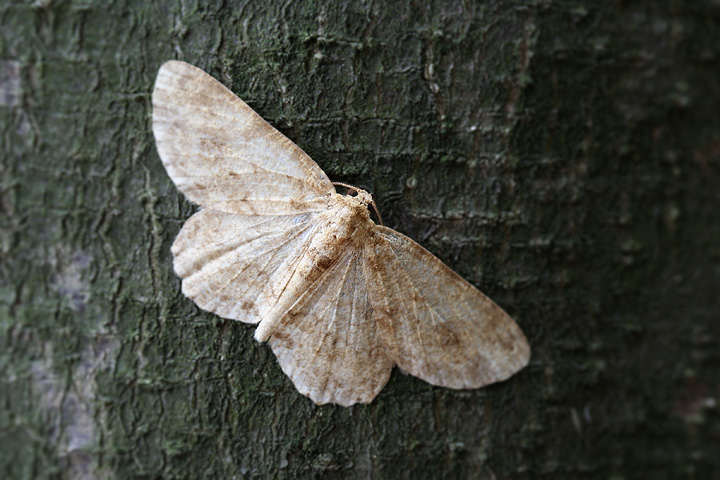feie: (144, 67, 531, 403)
